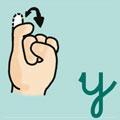Y: (10, 7, 62, 102)
